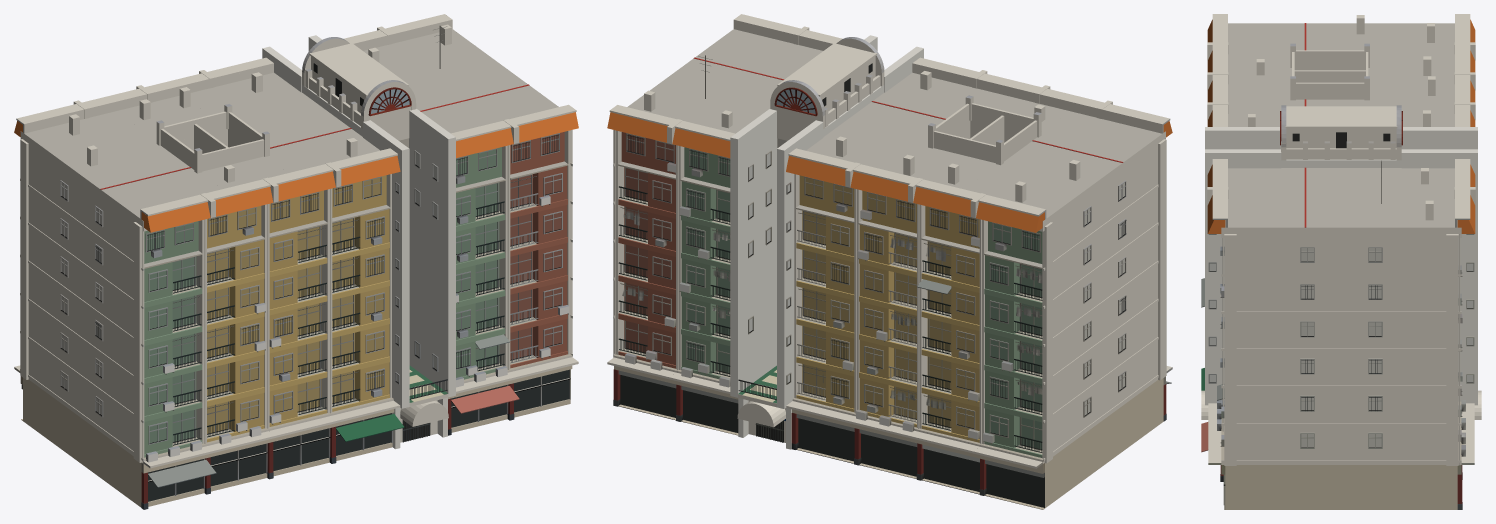
File: SM_Estate_SlopeBlocks.glb
3 views of the same model, side by side, from view 1: azimuth 30°, elevation 25°; view 2: azimuth 150°, elevation 25°; view 3: azimuth 270°, elevation 25° (orthographic). The views are drawn at different scales.
Parts seen in each view (by area): view 1: SM_Estate_SlopeBlocks_LM, SM_Estate_SlopeBlocks_VC, SM_Estate_SlopeBlocks_NB; view 2: SM_Estate_SlopeBlocks_LM, SM_Estate_SlopeBlocks_VC, SM_Estate_SlopeBlocks_NB; view 3: SM_Estate_SlopeBlocks_LM, SM_Estate_SlopeBlocks_VC, SM_Estate_SlopeBlocks_NB.
Boxes of the visible parts, x1,y1,x2,y2 form: SM_Estate_SlopeBlocks_LM: (14, 14, 578, 507); SM_Estate_SlopeBlocks_VC: (14, 25, 572, 509); SM_Estate_SlopeBlocks_NB: (62, 89, 568, 501); SM_Estate_SlopeBlocks_LM: (607, 14, 1172, 509); SM_Estate_SlopeBlocks_VC: (613, 37, 1172, 509); SM_Estate_SlopeBlocks_NB: (626, 89, 1124, 448); SM_Estate_SlopeBlocks_LM: (1201, 14, 1481, 509); SM_Estate_SlopeBlocks_VC: (1201, 43, 1474, 509); SM_Estate_SlopeBlocks_NB: (1210, 248, 1472, 446).
Bounding box in the file's own units: 34.56 × 25.7 × 19.8.
